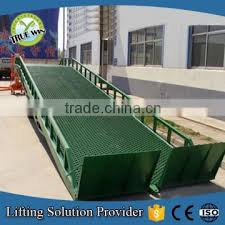Industrial Scale: (14, 55, 224, 200)
